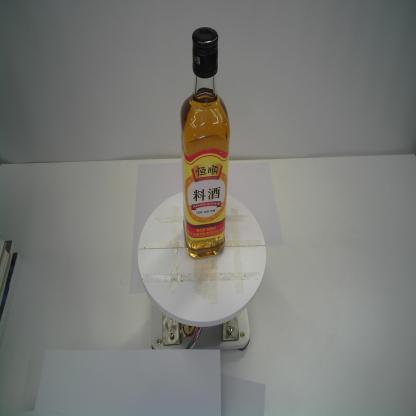Seasoner: (180, 26, 230, 260)
